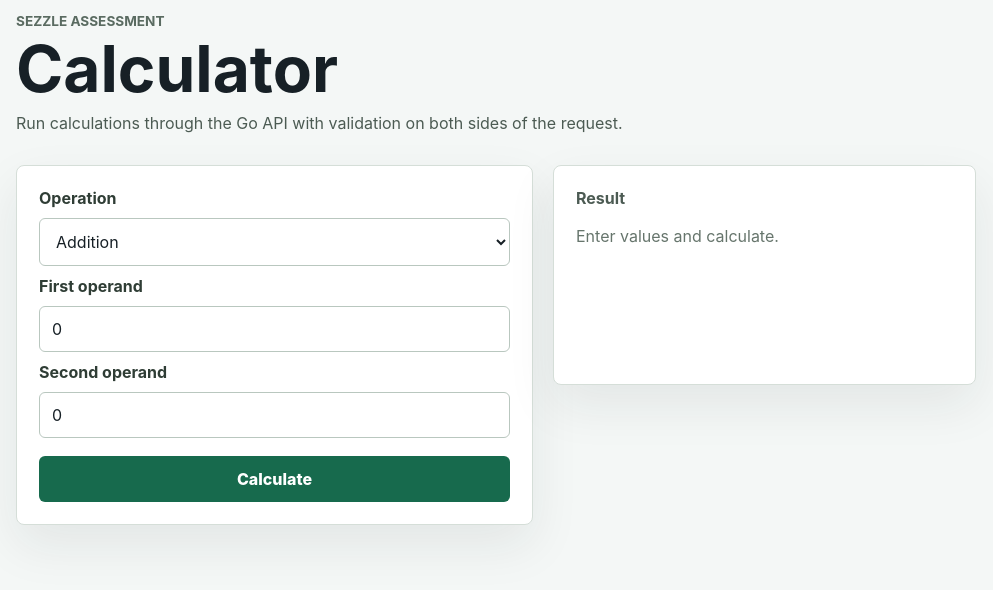
CalculatorForm › validates inputs before submitting
The width and height of the screenshot is (993, 590).
Clear the field labelled "First operand" at (274,329), box [39,306,510,352]
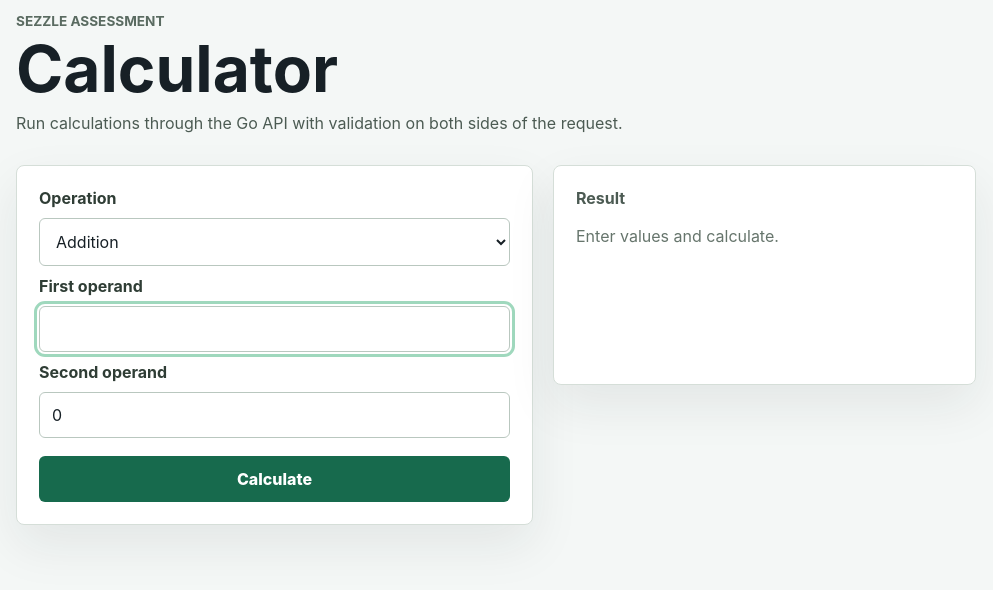
Click the button "Calculate" at (274,479), box [39,456,510,502]
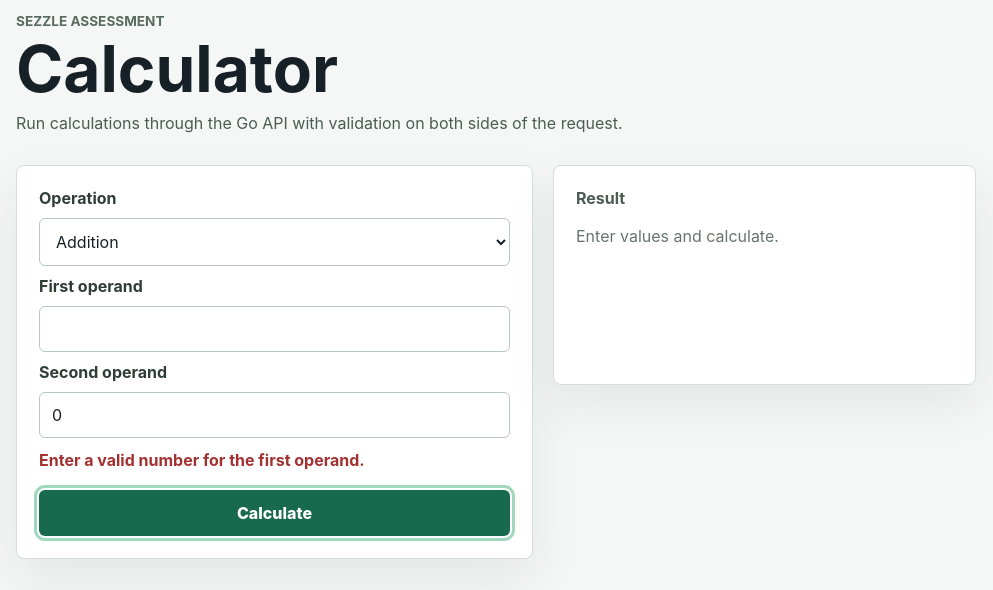
Expected: the text "Enter a valid number for the first operand." is shown once, [39,450,365,470]
